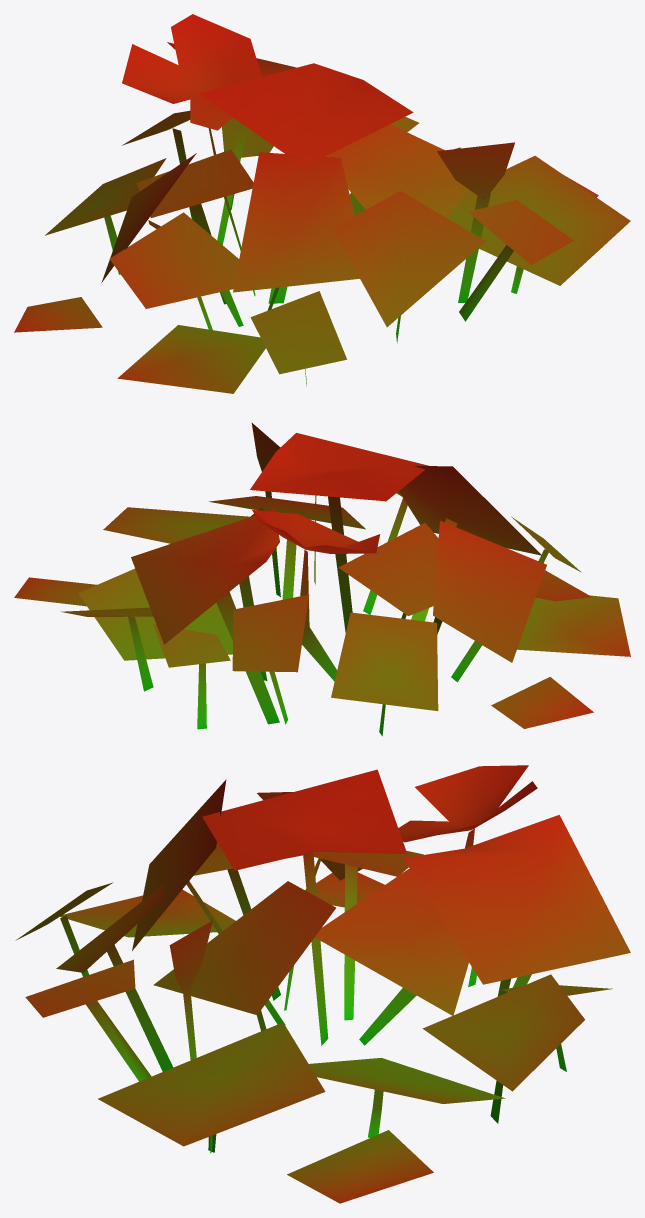
The model's file is Var5_LOD2.fbx.
The picture shows the model from 3 angles, top to bottom: view 1: azimuth 30°, elevation 25°; view 2: azimuth 150°, elevation 25°; view 3: azimuth 270°, elevation 25°; orthographic projection. The views are drawn at different scales.
Visible parts, largest first — view 1: _b6f0_Var5_LOD2; view 2: _b6f0_Var5_LOD2; view 3: _b6f0_Var5_LOD2.
Boxes of the visible parts, x1,y1,x2,y2 form: _b6f0_Var5_LOD2: (14,14,630,393); _b6f0_Var5_LOD2: (14,423,630,736); _b6f0_Var5_LOD2: (15,765,630,1203).
Bounding box in the file's own units: 31.03 × 11.5 × 24.29.
